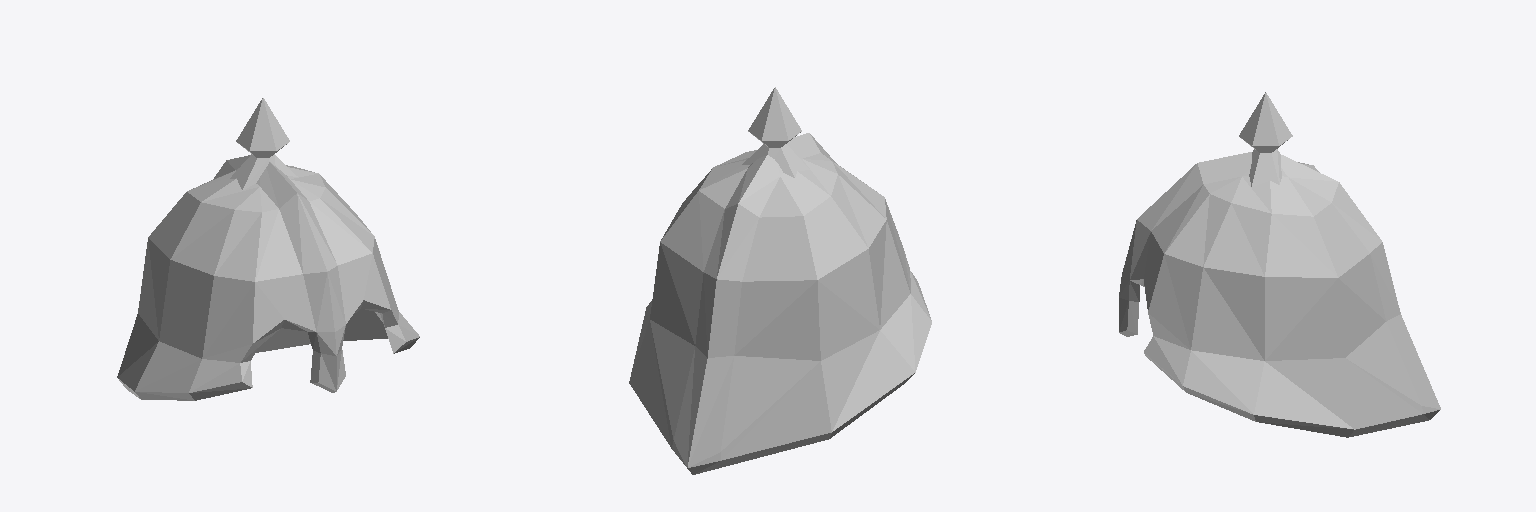
Rendered from SM_Chr_Attach_Soldier_01.obj.
3 views of the same model, side by side, from view 1: azimuth 30°, elevation 25°; view 2: azimuth 150°, elevation 25°; view 3: azimuth 270°, elevation 25° (orthographic).
Parts seen in each view (by area): view 1: SM_Chr_Attach_Soldier_01; view 2: SM_Chr_Attach_Soldier_01; view 3: SM_Chr_Attach_Soldier_01.
Boxes of the visible parts, x1,y1,x2,y2 form: SM_Chr_Attach_Soldier_01: [117, 98, 419, 400]; SM_Chr_Attach_Soldier_01: [629, 87, 931, 474]; SM_Chr_Attach_Soldier_01: [1119, 92, 1440, 437].
Size of the model in its own units: 37.86 by 44.17 by 39.32.